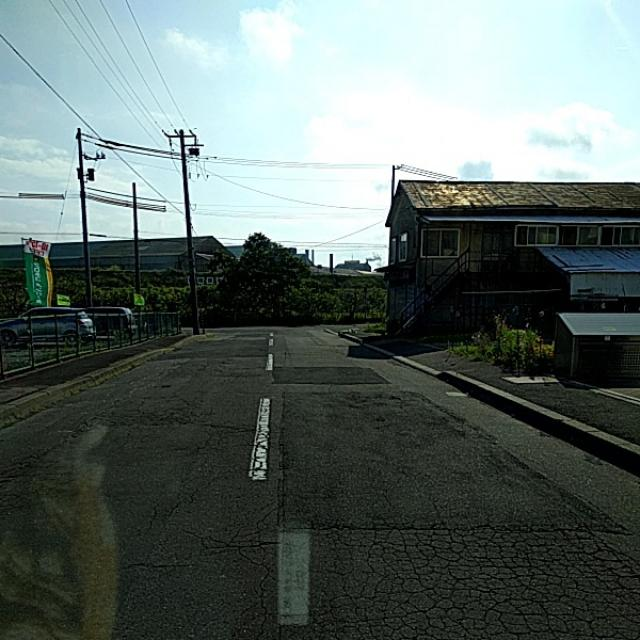pothole: (278, 406, 622, 634)
